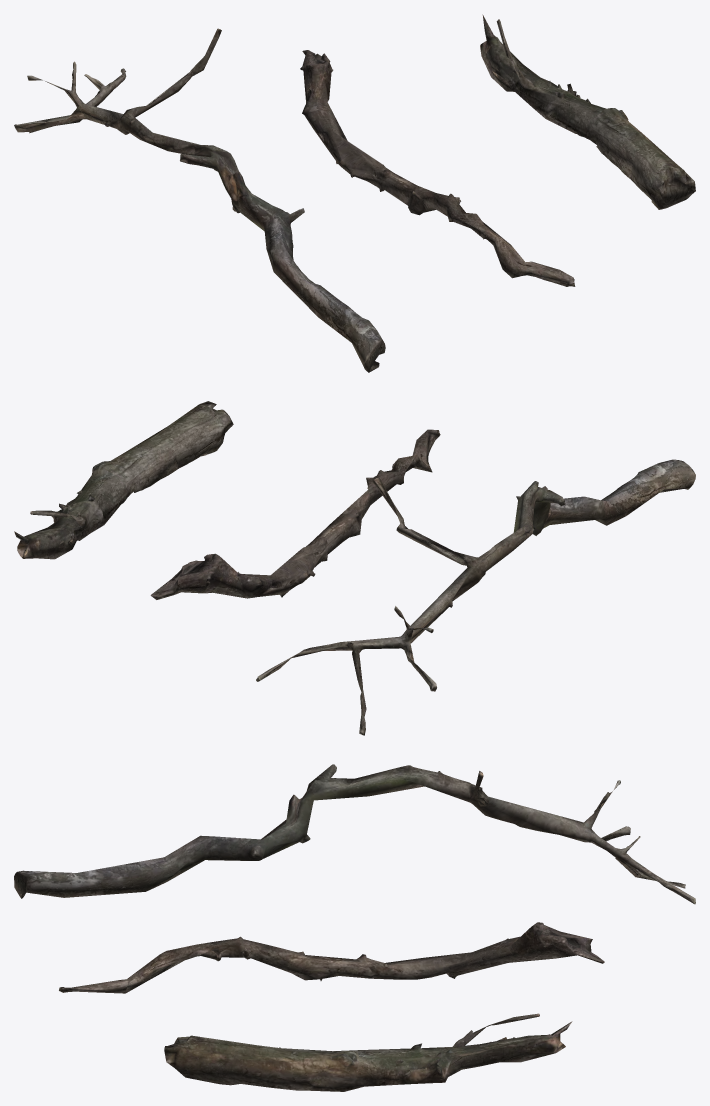
Rendered from branches.glb.
3 views of the same model, one above another, from view 1: azimuth 30°, elevation 25°; view 2: azimuth 150°, elevation 25°; view 3: azimuth 270°, elevation 25° (orthographic). The views are drawn at different scales.
Parts seen in each view (by area): view 1: dry_branches_medium_01_a, dry_branches_medium_01_c, dry_branches_medium_01_b; view 2: dry_branches_medium_01_a, dry_branches_medium_01_c, dry_branches_medium_01_b; view 3: dry_branches_medium_01_a, dry_branches_medium_01_c, dry_branches_medium_01_b.
Part boxes in pixels (x1,y1,x2,y2): dry_branches_medium_01_a: (14, 28, 385, 372); dry_branches_medium_01_c: (480, 14, 695, 209); dry_branches_medium_01_b: (300, 50, 575, 286); dry_branches_medium_01_a: (256, 459, 695, 735); dry_branches_medium_01_c: (14, 401, 233, 559); dry_branches_medium_01_b: (150, 429, 440, 599); dry_branches_medium_01_a: (14, 764, 695, 904); dry_branches_medium_01_c: (164, 1013, 572, 1091); dry_branches_medium_01_b: (59, 922, 604, 993).
Size of the model in its own units: 1.06 by 0.34 by 1.3.
1 material, 1 textured.
